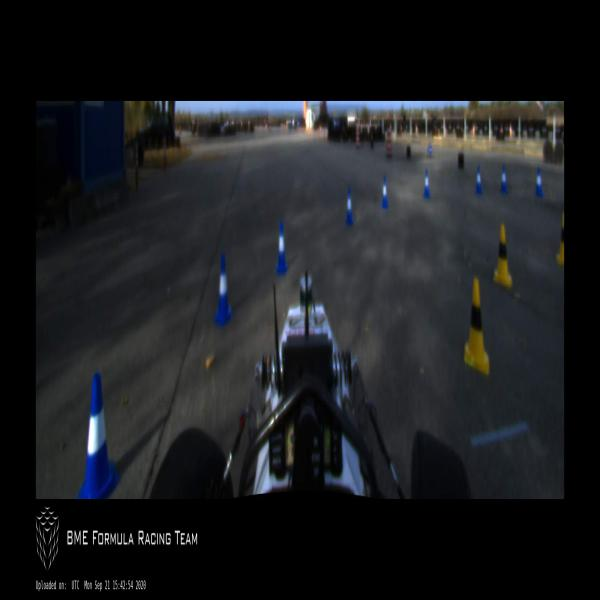blue_cone: (77, 372, 120, 498), (215, 255, 233, 329), (275, 223, 288, 272), (345, 186, 354, 224), (380, 176, 389, 208), (534, 167, 543, 196), (422, 168, 430, 198), (500, 165, 508, 193), (475, 165, 482, 194)
yellow_cone: (464, 280, 490, 375), (493, 225, 512, 286), (556, 211, 564, 266)
